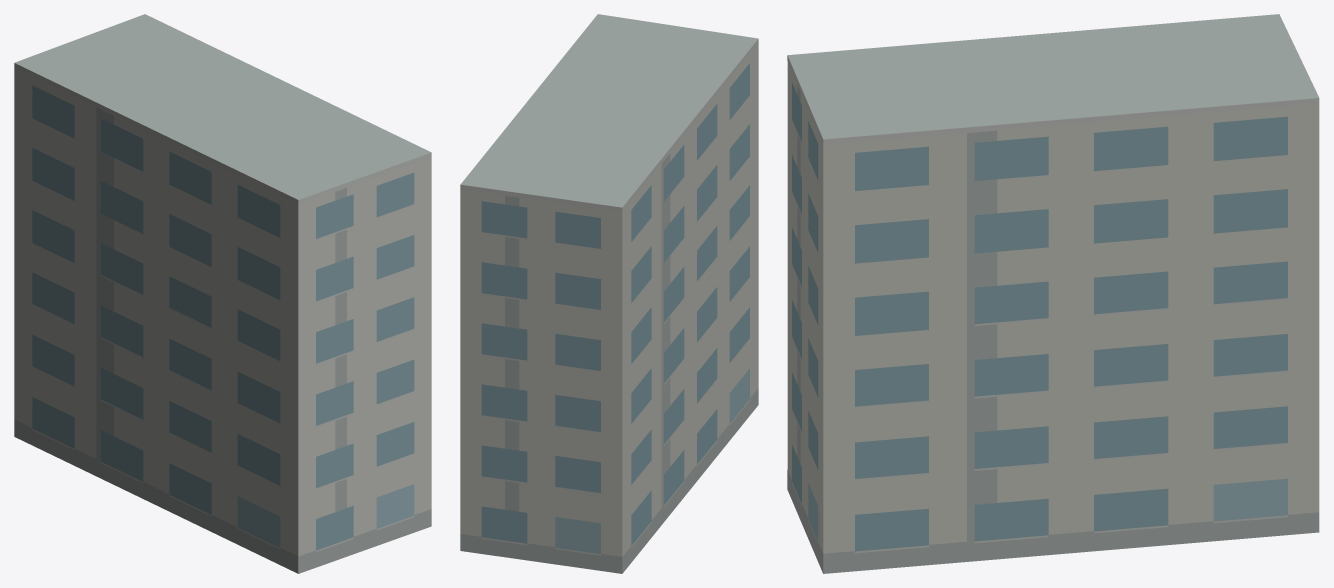
Rendered from survey-upis-32708960.glb.
The picture shows the model from 3 angles, left to right: view 1: azimuth 30°, elevation 25°; view 2: azimuth 150°, elevation 25°; view 3: azimuth 270°, elevation 25°; orthographic projection. The views are drawn at different scales.
Parts seen in each view (by area): view 1: survey-upis-32708960.tmp; view 2: survey-upis-32708960.tmp; view 3: survey-upis-32708960.tmp.
Boxes of the visible parts, bbox=[...] form: survey-upis-32708960.tmp: bbox=[14, 14, 431, 573]; survey-upis-32708960.tmp: bbox=[460, 14, 758, 573]; survey-upis-32708960.tmp: bbox=[787, 14, 1319, 573].
Bounding box in the file's own units: 11.47 × 18.5 × 20.54.
